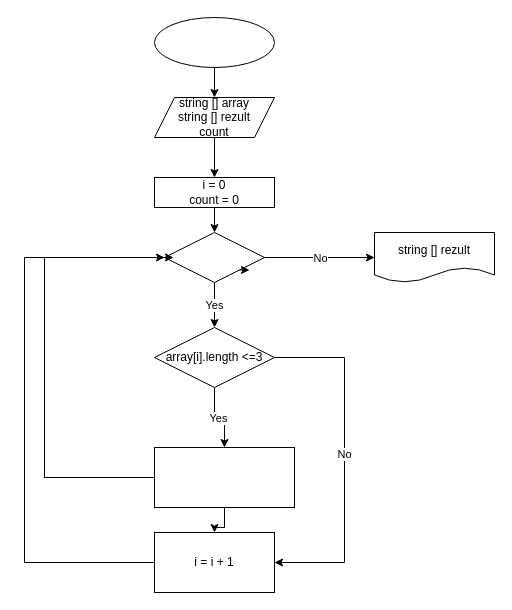
Some shapes in this 512 by 610 pixel diagram are drawn without their labels. The centre of each missing label's shape, as x and y in pixels:
"i < array.length" goes at (x=214, y=257).
"rezult [count] = array [i] count = count +1" goes at (x=224, y=477).
"Start" goes at (x=214, y=42).
